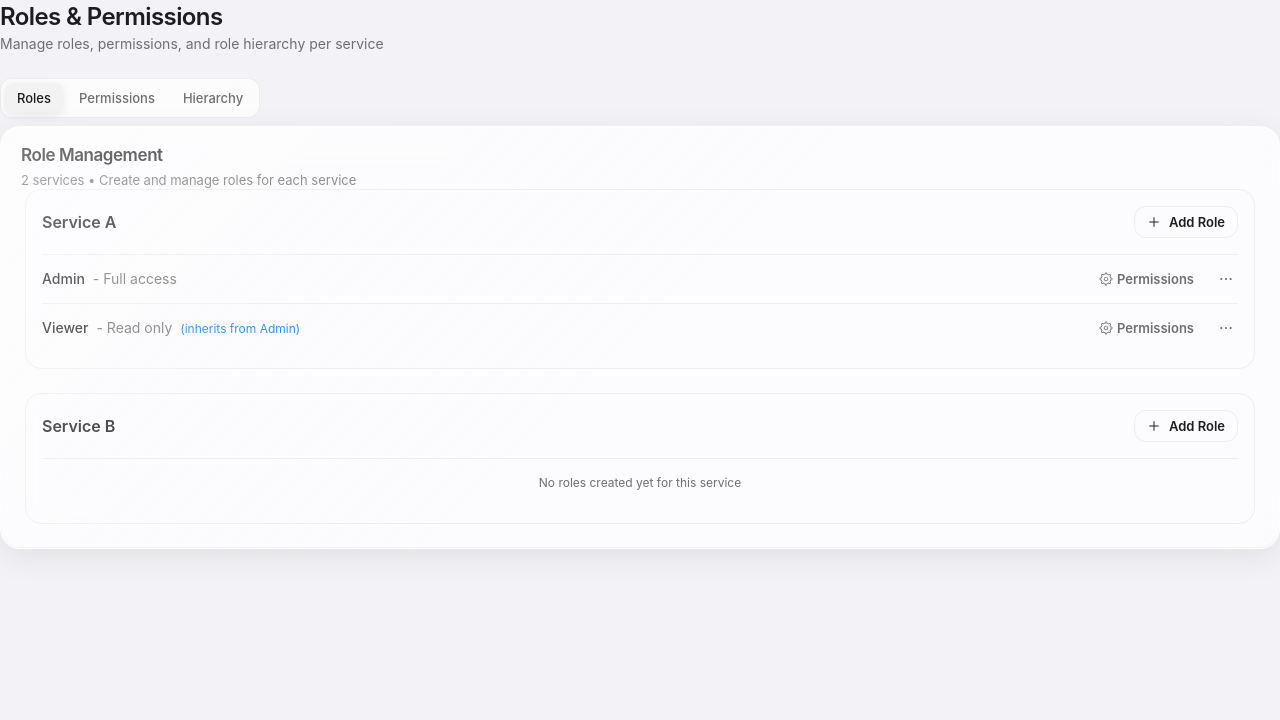
Test: Roles Page › create role dialog › opens create role dialog when clicking Add Role button
The image size is (1280, 720).
Expected: the text "Service A" is shown, [42,210,116,234]
Click the button "Add Role" in the row of "Service A": (1186, 222) [1134,206,1238,238]
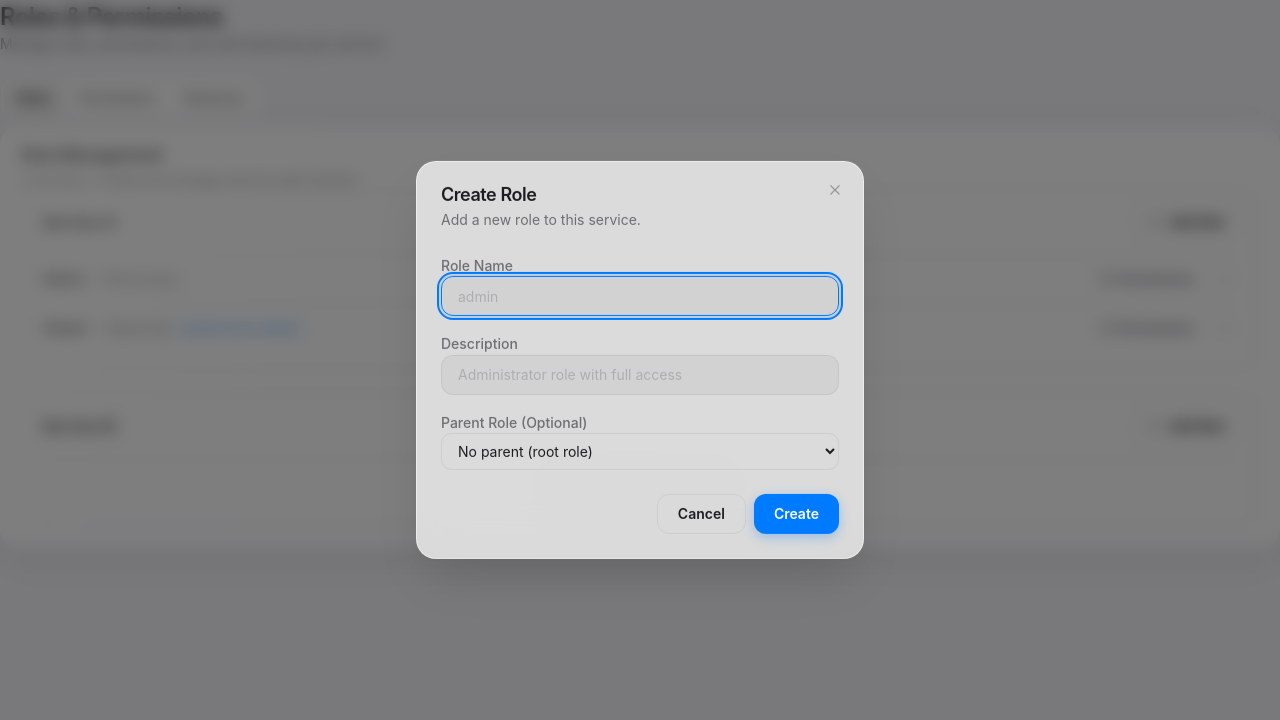
Expected: the dialog is shown, [416,161,864,559]
Expected: the text "Add a new role to this service." is shown, [441,211,641,228]
